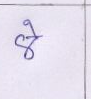e_matra: (23, 20, 40, 35)
